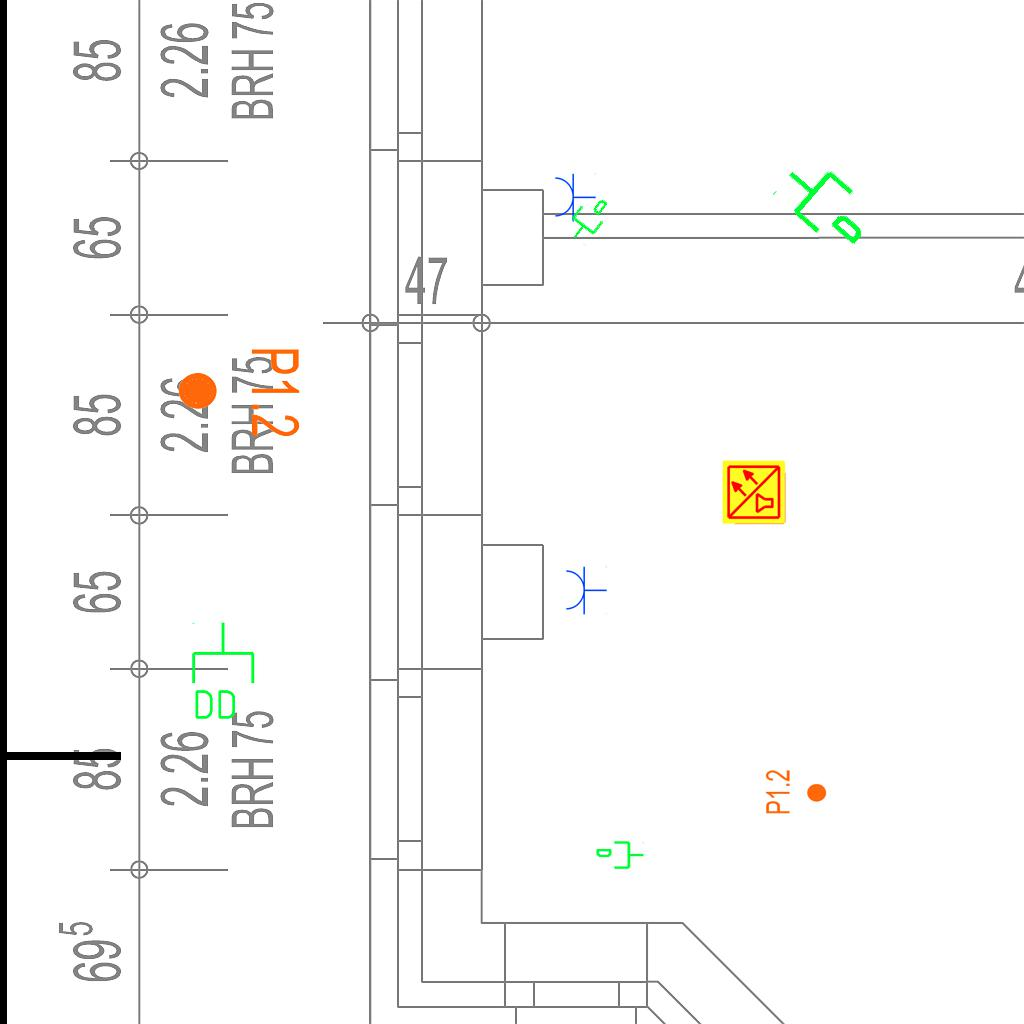Datenanschluss_einfach: (767, 144, 888, 262), (559, 187, 617, 249), (595, 839, 645, 873)
Datenanschluss_zweifach: (188, 620, 257, 723)
Downlight_LED_Einbauleuchten_Flur: (175, 346, 303, 439), (764, 769, 828, 815)
OKW_Multisensormelder_(Kombination_optischer_Rauch-Kahlenmonoxid_Waerme-Melder): (721, 459, 787, 525)
Schukosteckdose_einfach: (553, 172, 596, 222), (564, 565, 607, 615)
